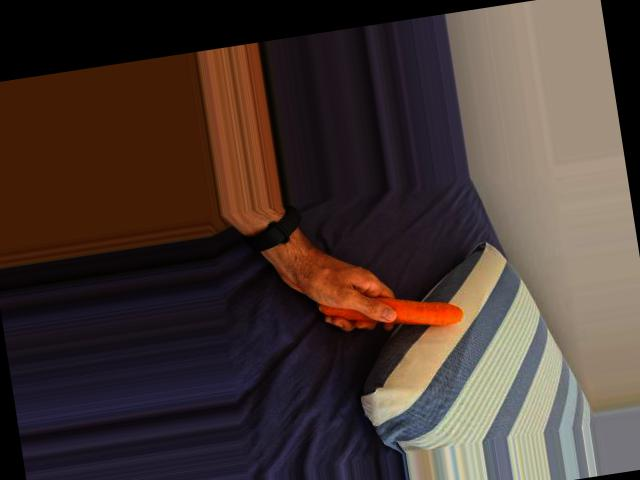carrot: (313, 275, 465, 345)
